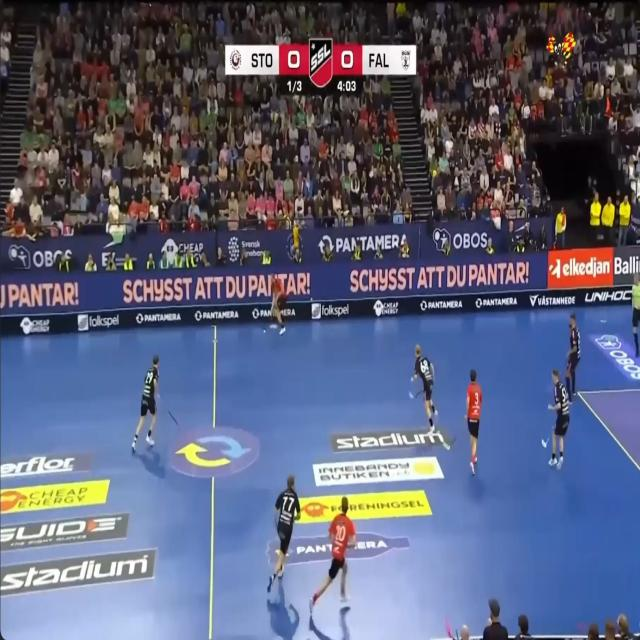Balls: (263, 329, 266, 334)
player: (309, 496, 355, 612), (267, 475, 300, 591), (132, 356, 158, 450), (412, 345, 437, 431), (548, 369, 569, 468), (465, 369, 482, 474), (565, 314, 581, 402), (270, 274, 286, 333), (632, 273, 640, 357)
stick: (446, 620, 458, 639), (167, 410, 179, 426), (542, 437, 550, 448)
